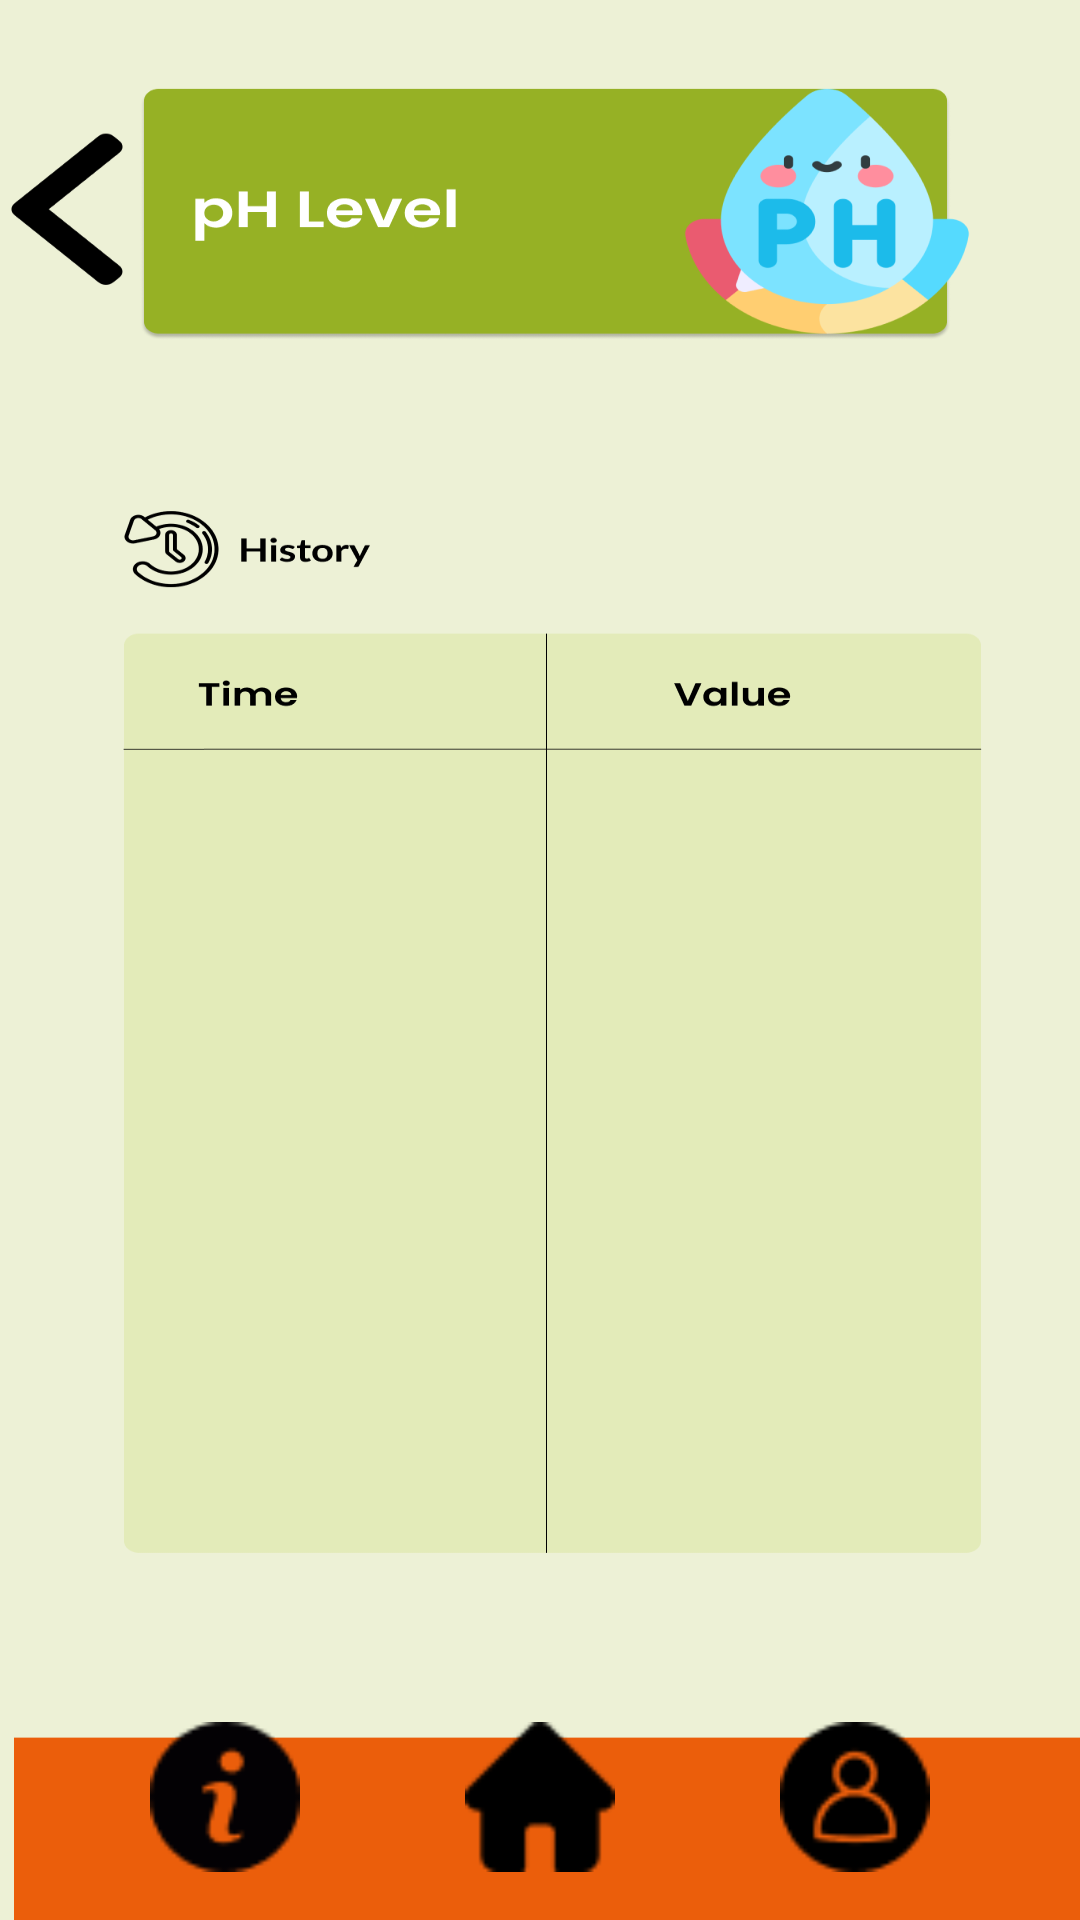

Icons on this 1080 x 1920 Android screen, each with its box as detection(x1, y1, x2, y2):
home: detection(465, 1722, 615, 1872)
information: detection(150, 1722, 300, 1872)
profile: detection(780, 1722, 930, 1872)
